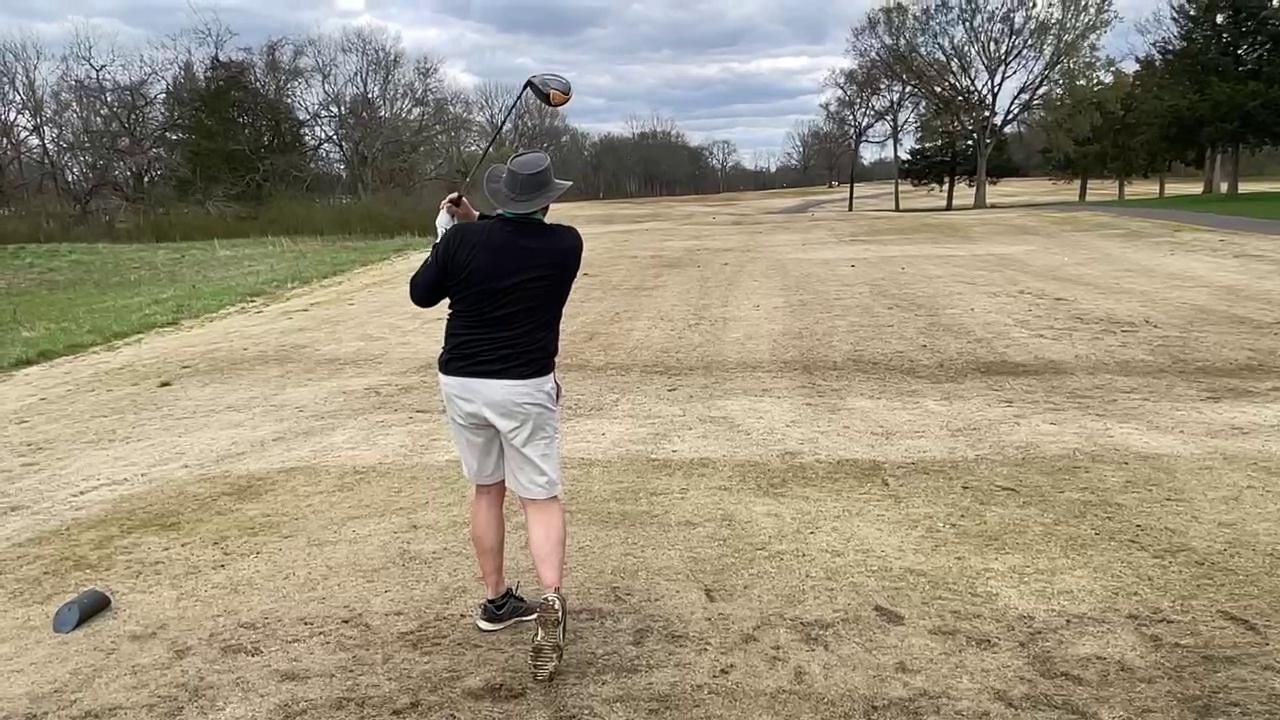ClubHead: (513, 69, 579, 124)
